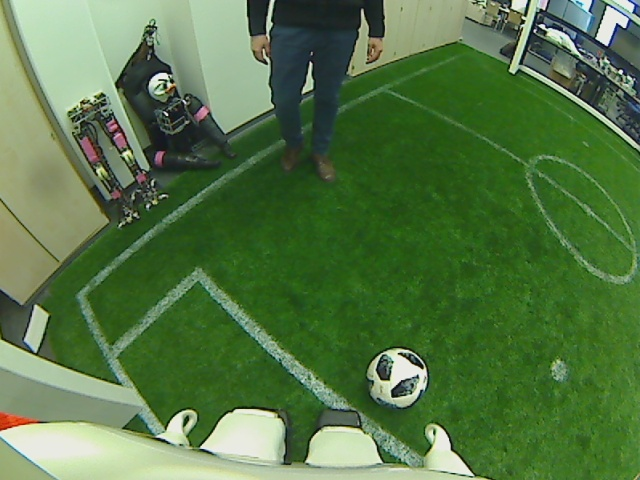ball: (364, 342, 429, 411)
